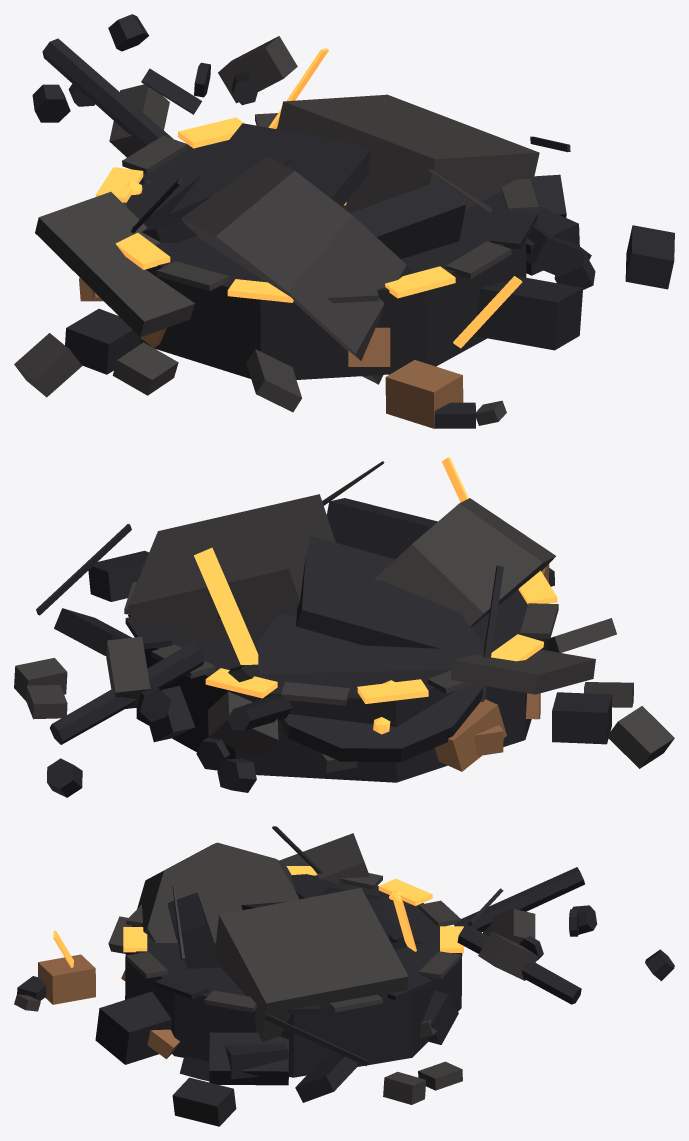
The model's file is Wreck_NeonTurret.fbx.
3 views of the same model, one above another, from view 1: azimuth 30°, elevation 25°; view 2: azimuth 150°, elevation 25°; view 3: azimuth 270°, elevation 25° (orthographic). The views are drawn at different scales.
Visible parts, largest first — view 1: Wreck_NeonTurret; view 2: Wreck_NeonTurret; view 3: Wreck_NeonTurret.
Boxes of the visible parts, x1,y1,x2,y2 form: Wreck_NeonTurret: (14,14,674,428); Wreck_NeonTurret: (14,457,674,797); Wreck_NeonTurret: (14,826,674,1126).
Bounding box in the file's own units: 1.39 × 0.4792 × 1.65.
